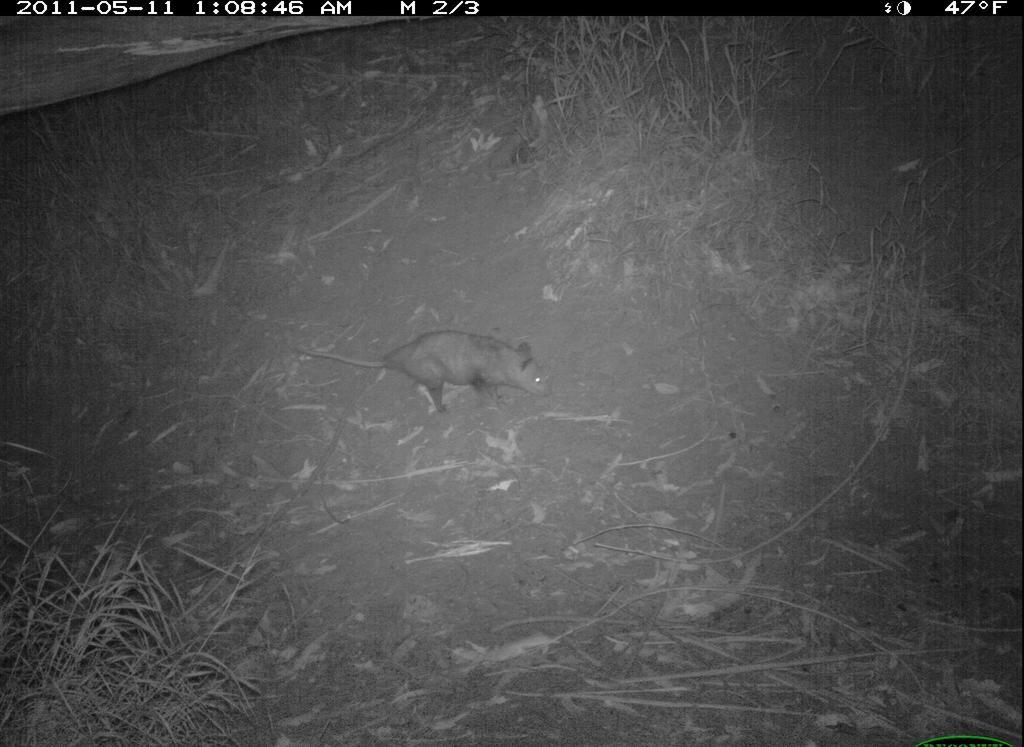opossum: (290, 324, 557, 418)
